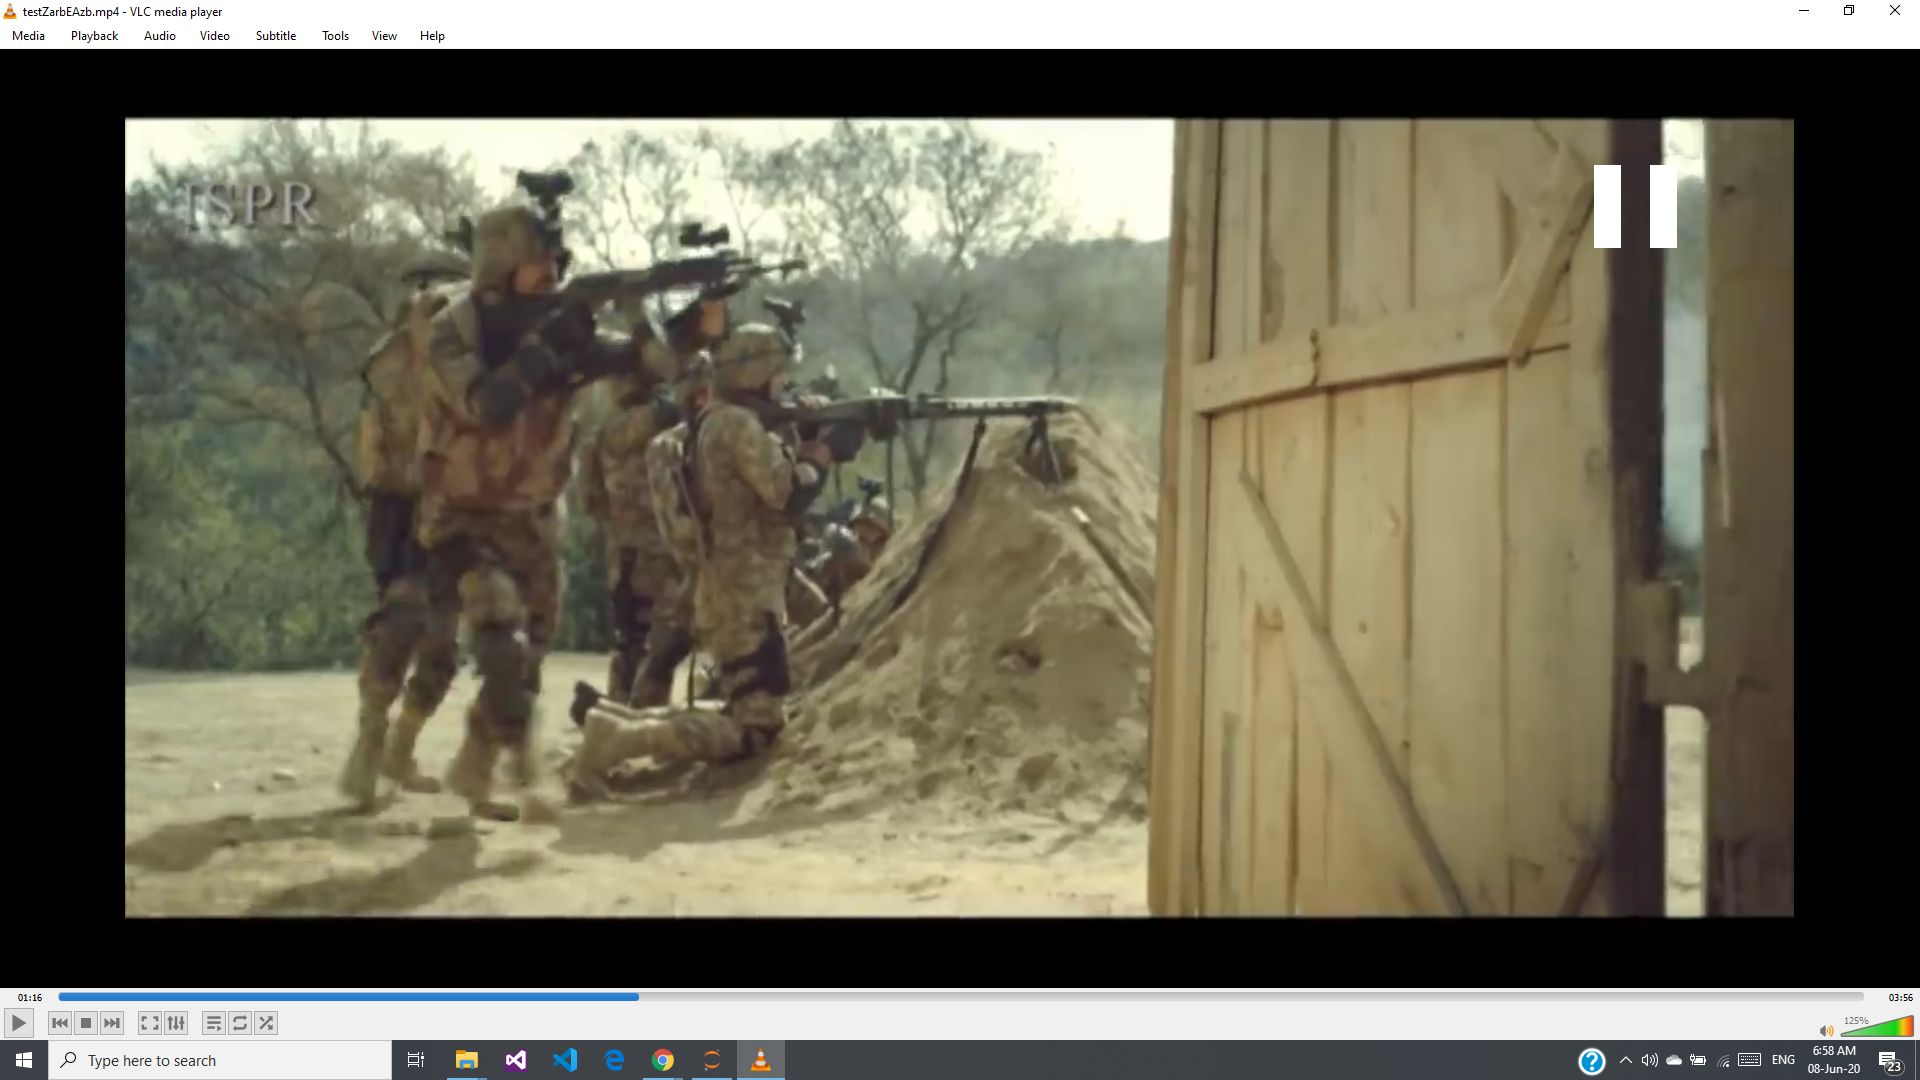gun: (762, 351, 1112, 477), (526, 232, 829, 310)
uniform: (429, 212, 585, 785), (327, 257, 469, 795), (657, 338, 832, 771), (568, 301, 688, 666)
